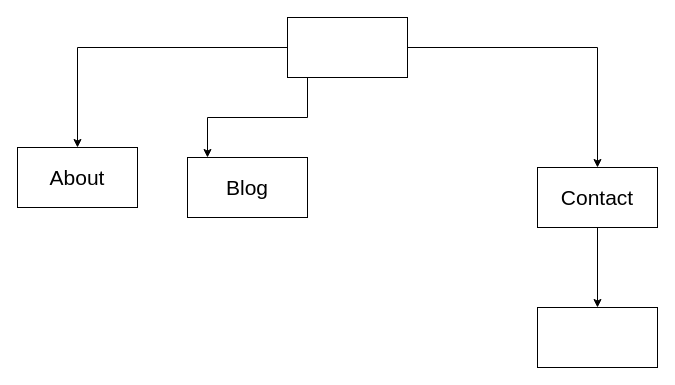
Some shapes in this 675 by 385 pixel diagram are drawn without their labels. Each missing label, with the centre of its shape:
"Home" goes at (347,47).
"Socials links" goes at (597,337).
